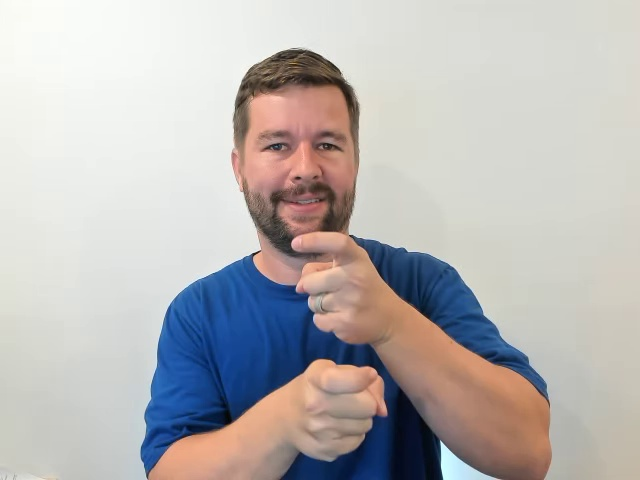joke: (281, 222, 395, 477)
